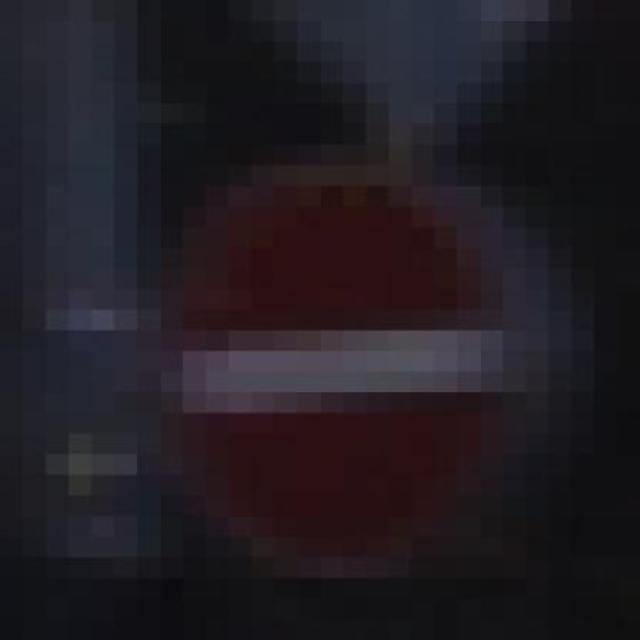B2: (152, 159, 532, 577)
